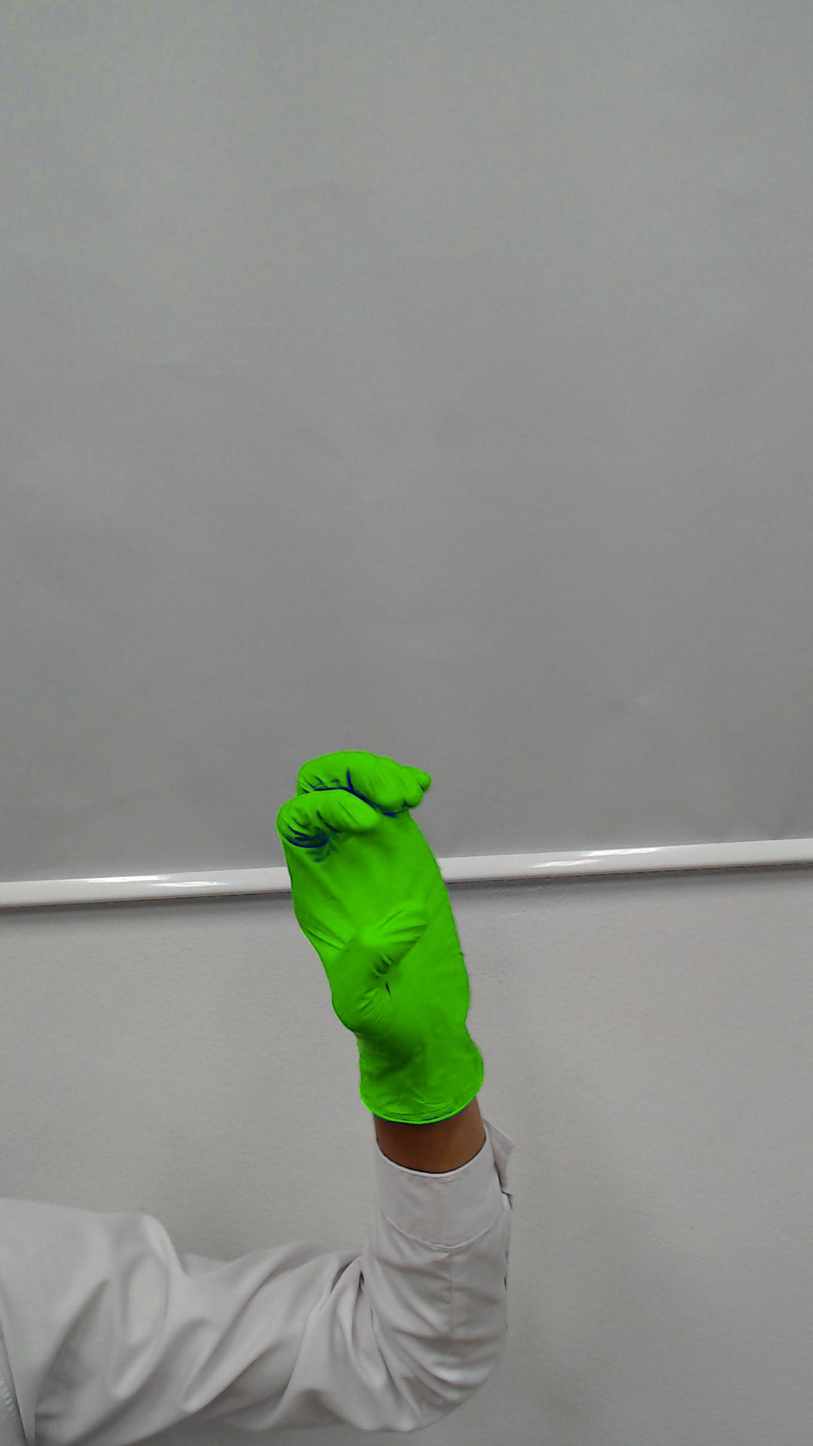gloves: (272, 734, 482, 1047)
